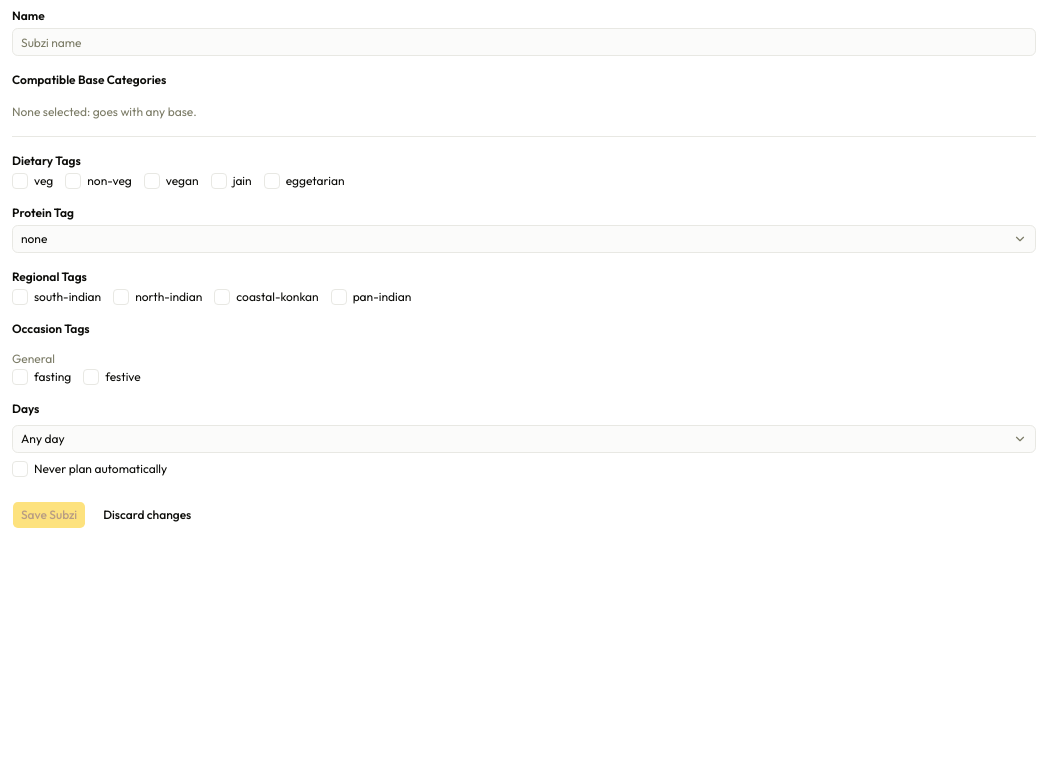
ComponentForm dynamic category wiring › shows day checkboxes only for specific days
expect the checkbox labelled "monday" is not shown: met
Click the dropdown named "Days": {"x": 43, "y": 439} x1=12 y1=425 x2=1036 y2=453
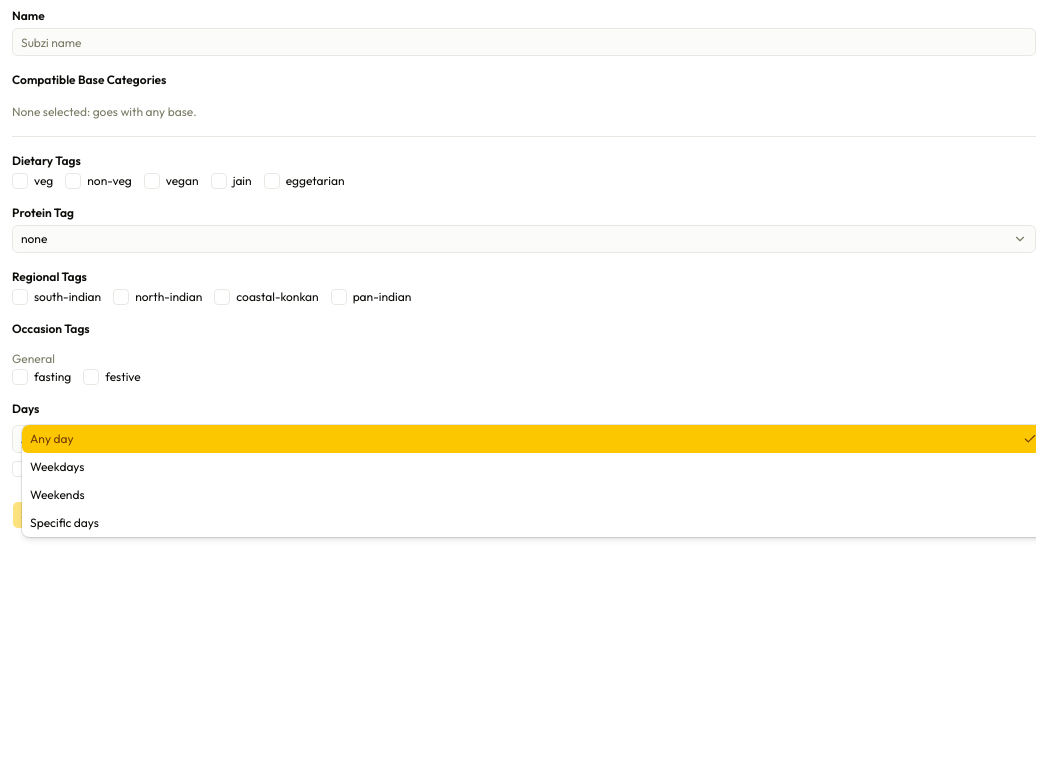
Click the option "Specific days": {"x": 64, "y": 523} x1=30 y1=515 x2=99 y2=530
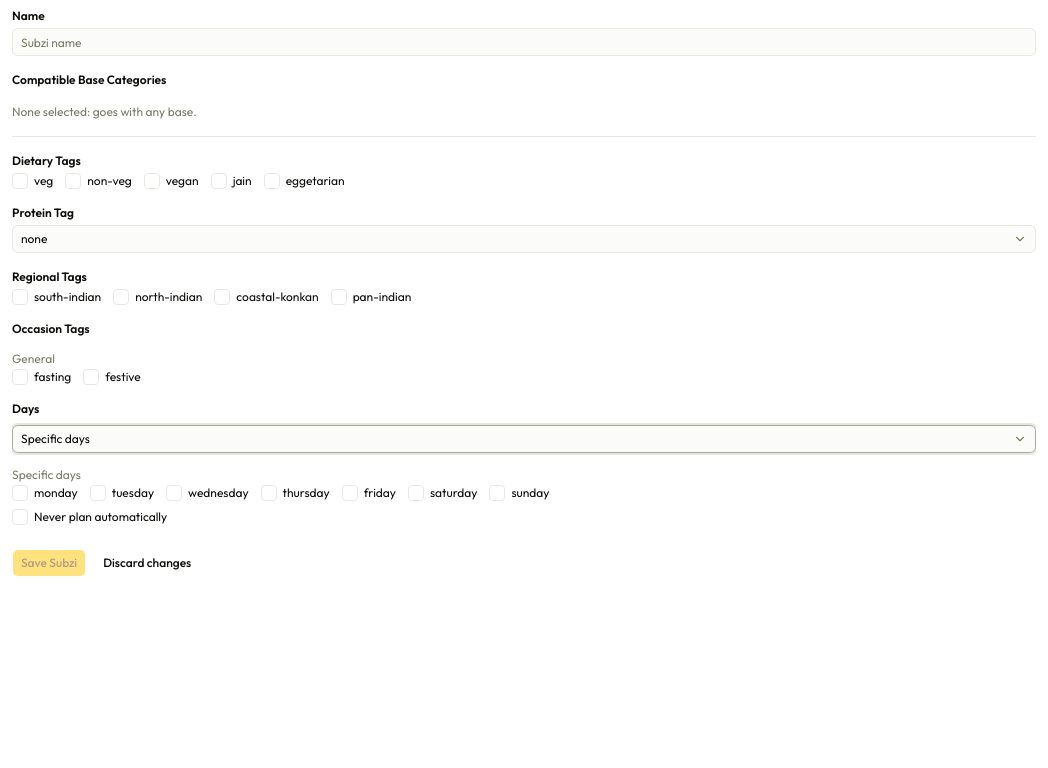
expect the checkbox named "monday" next to "monday" is shown: met, box x1=12 y1=485 x2=28 y2=501
